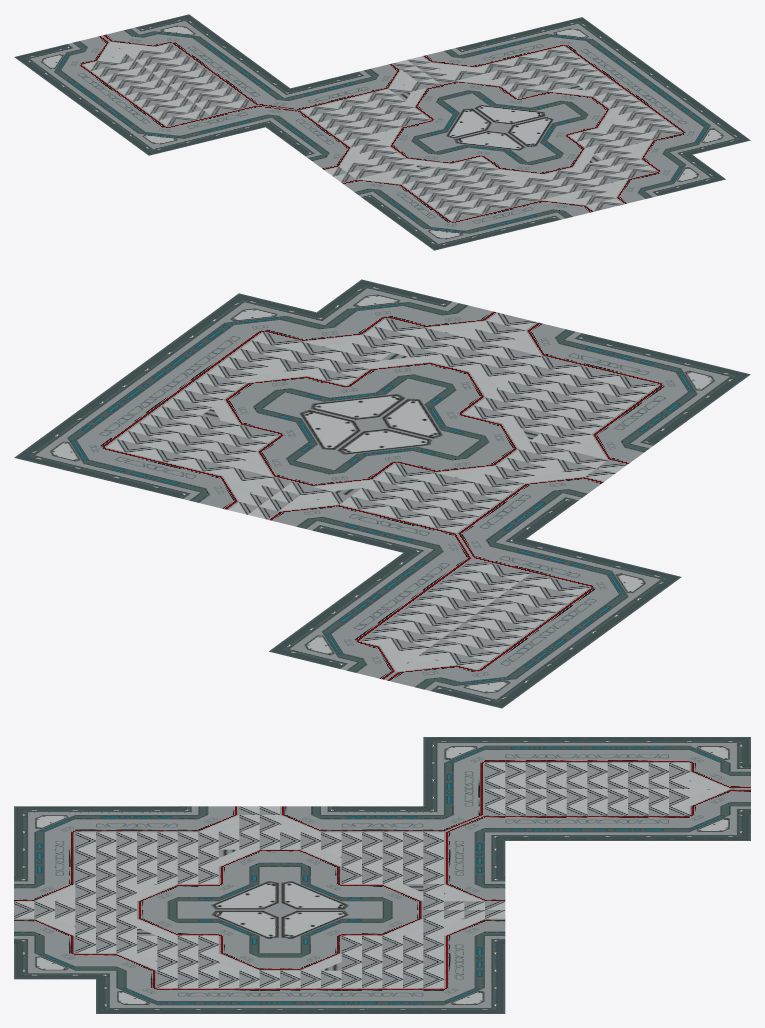
Rendered from CrewCabin.fbx.
3 renders of one model, top to bottom at view 1: azimuth 30°, elevation 25°; view 2: azimuth 150°, elevation 25°; view 3: azimuth 270°, elevation 25°, orthographic. The views are drawn at different scales.
Parts seen in each view (by area): view 1: SolCrewCabin; view 2: SolCrewCabin; view 3: SolCrewCabin.
Boxes of the visible parts, x1,y1,x2,y2 form: SolCrewCabin: (14, 14, 750, 250); SolCrewCabin: (14, 279, 750, 708); SolCrewCabin: (14, 737, 750, 1013).
Bounding box in the file's own units: 2400 × 2700 × 0.
